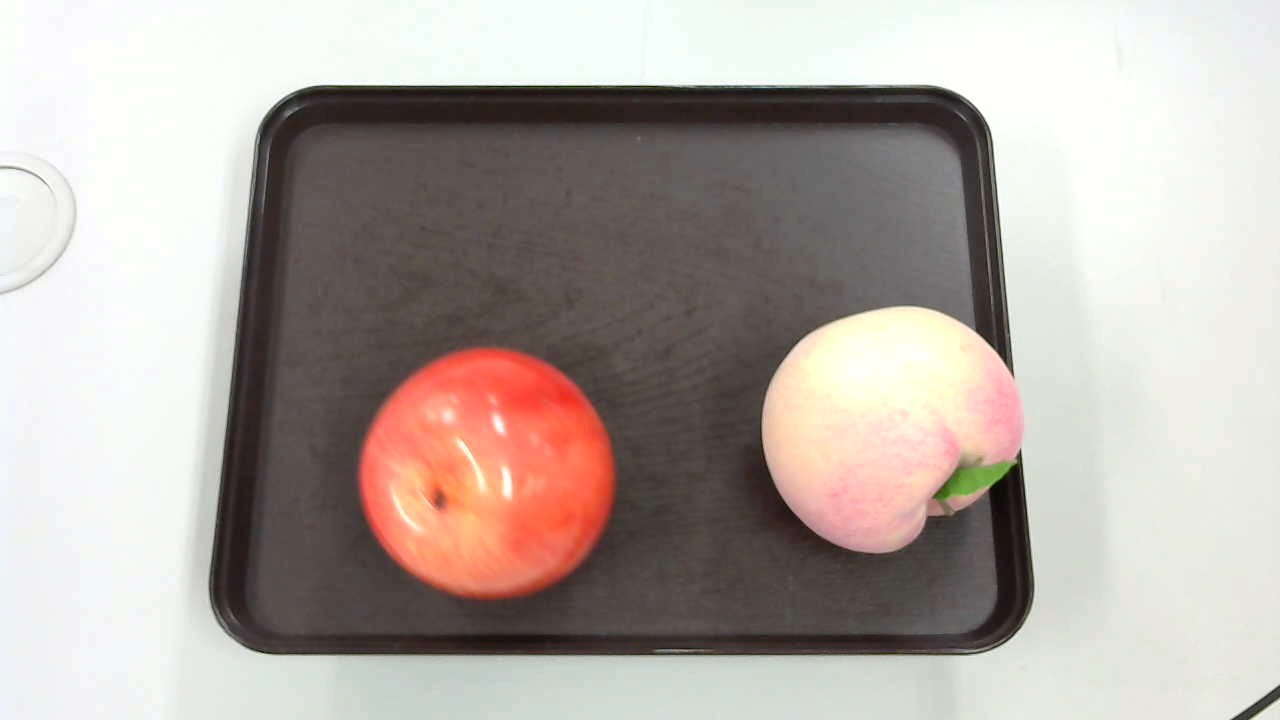peach: (751, 305, 1028, 556)
red apple: (352, 348, 623, 598)
